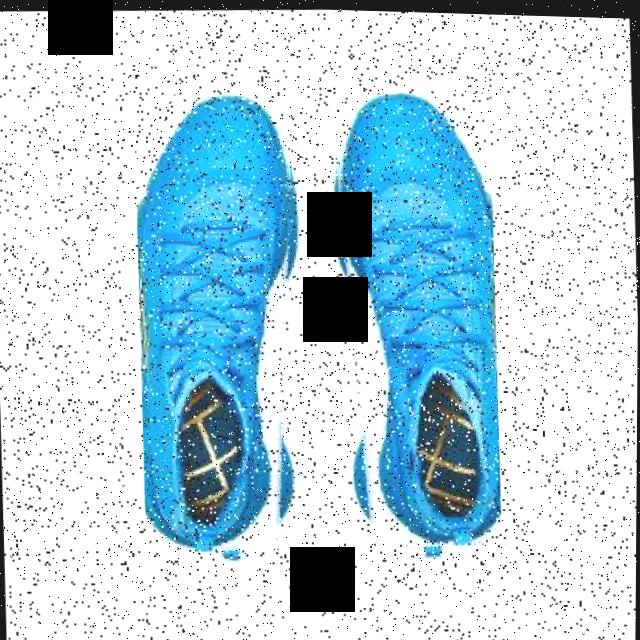shoe: (131, 88, 310, 555), (326, 86, 505, 549)
